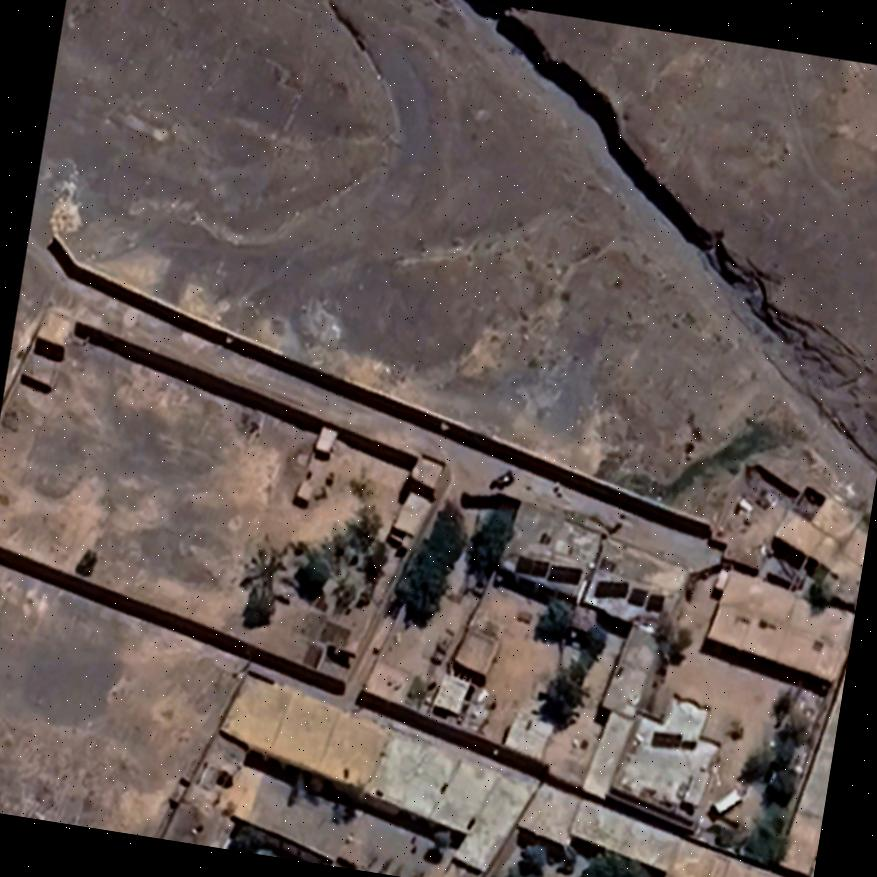Solarpanel: (584, 568, 669, 619), (503, 549, 587, 591)
